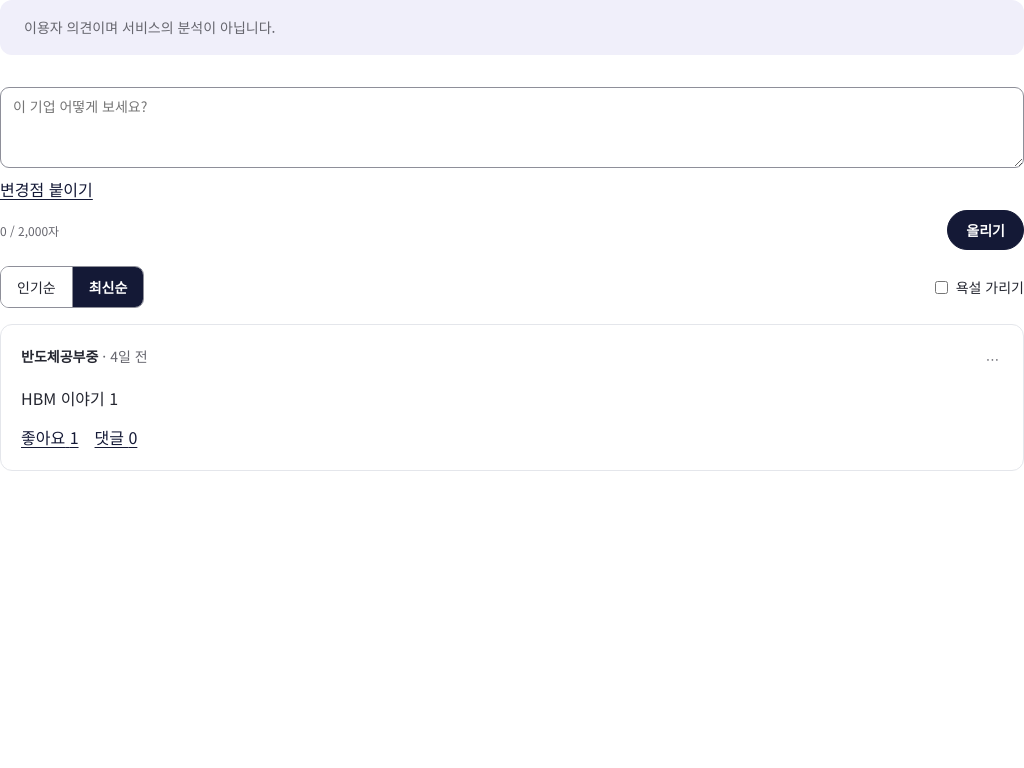
Test: 커뮤니티 탭 › 닉네임을 정하는 사이 대화상자를 닫으면 정한 뒤에도 글을 올리지 않는다
The image size is (1024, 768).
Expected: the text "HBM 이야기 1" is shown, [21, 386, 118, 410]
Type "첫 의견" into the text box named "글쓰기" at [512, 128], box [0, 87, 1023, 168]
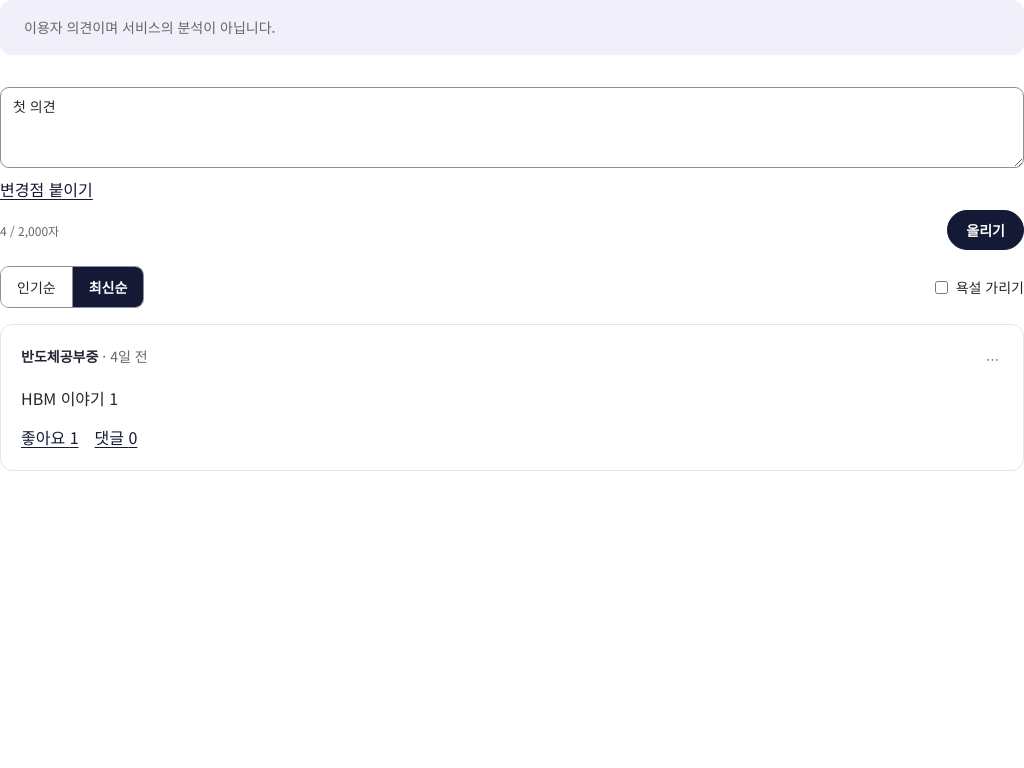
Click the button "올리기" at [986, 230], box [947, 210, 1023, 250]
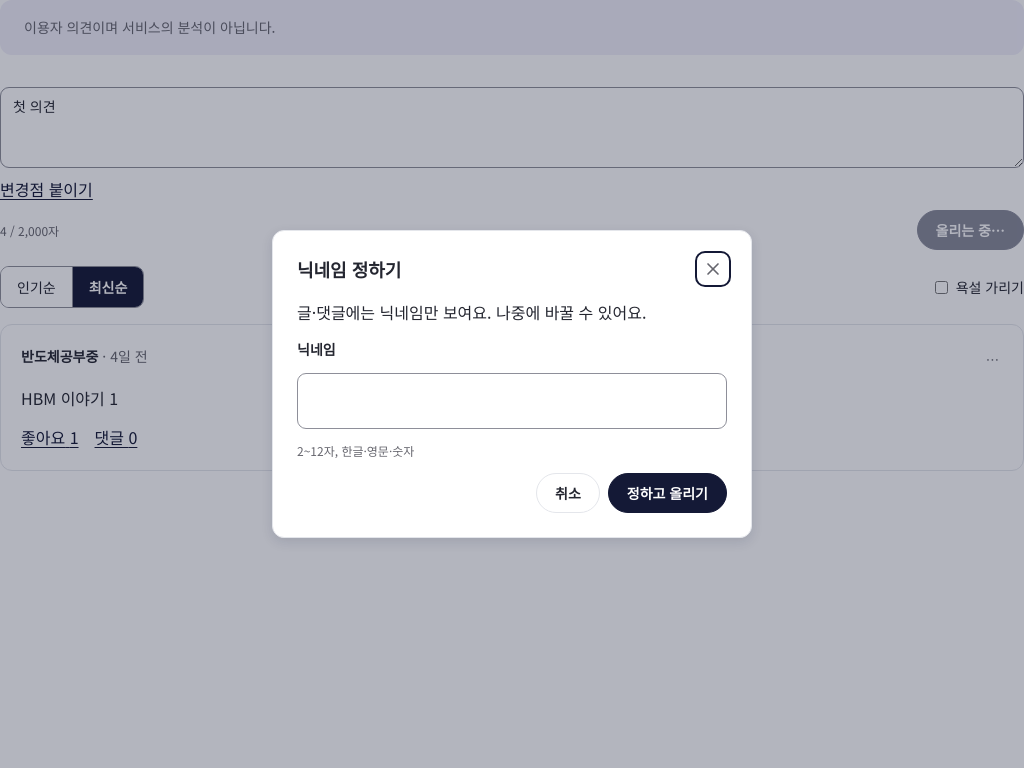
Type "새닉네임" into the field labelled "닉네임" at [512, 401], box [297, 373, 727, 429]
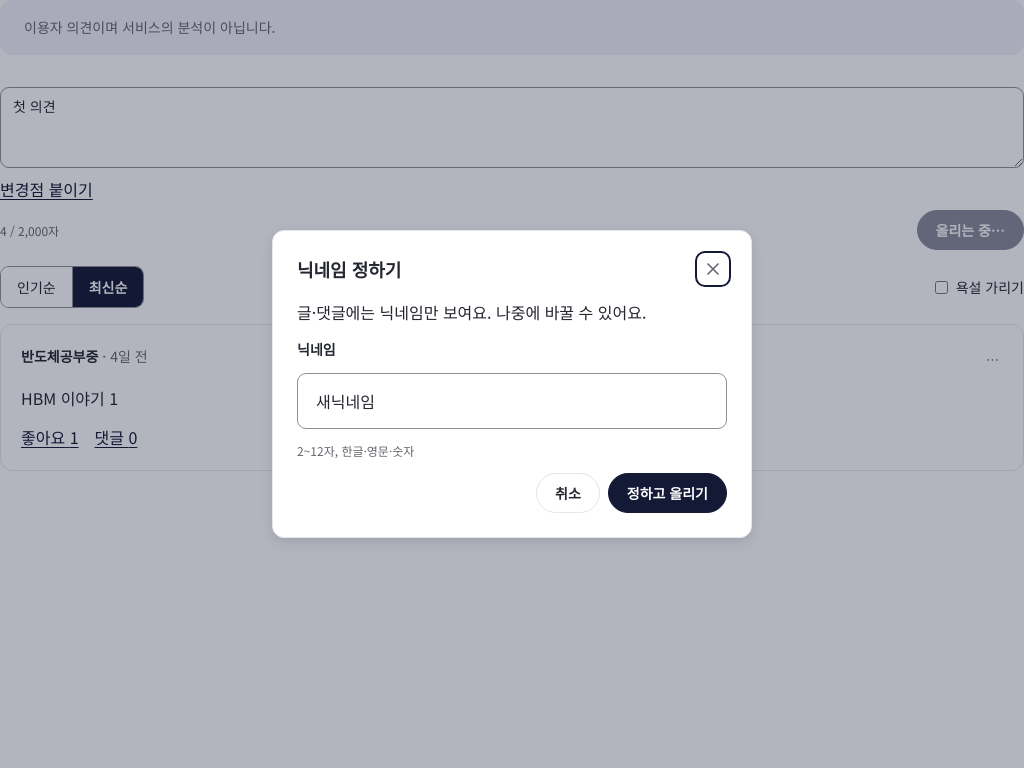
Click the button "정하고 올리기" at [667, 493], box [608, 473, 727, 513]
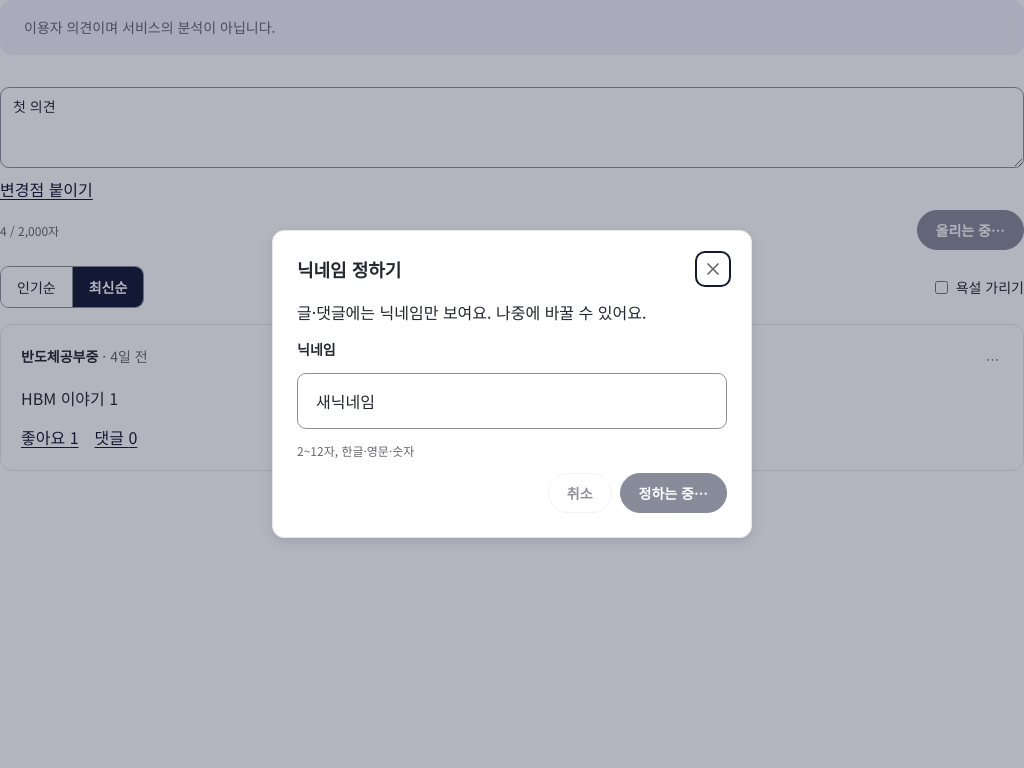
Press Escape in the dialog "닉네임 정하기", box [272, 230, 752, 538]
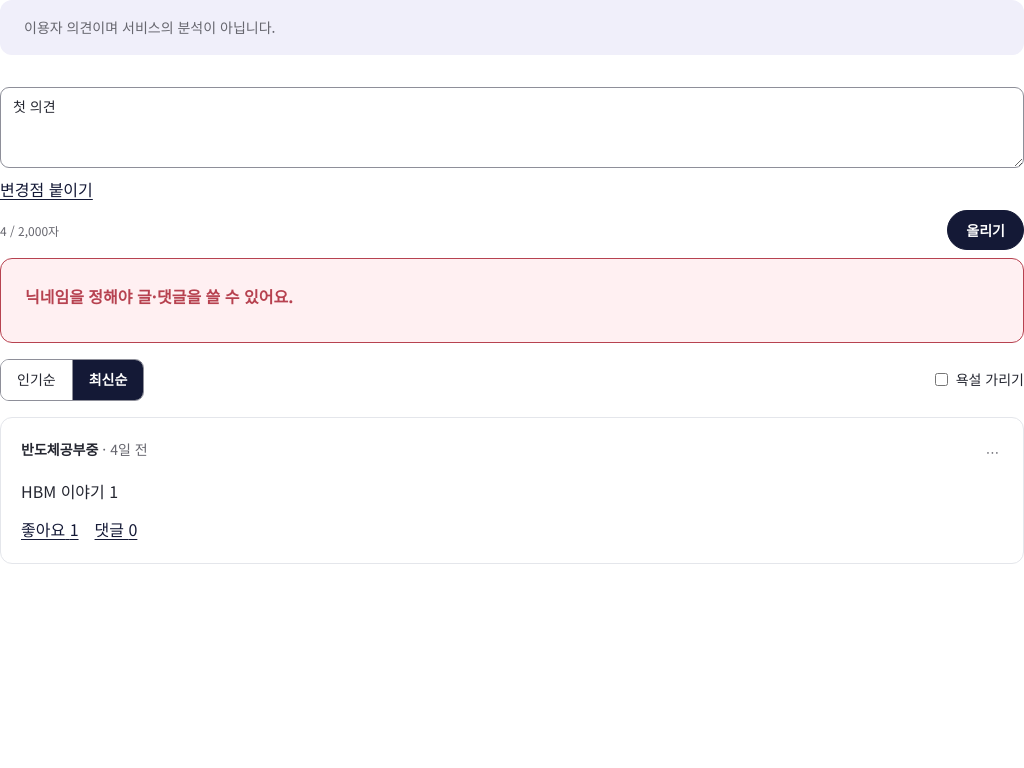
Expected: the text "닉네임을 정해야 글·댓글을 쓸 수 있어요." is shown, [25, 284, 293, 308]
